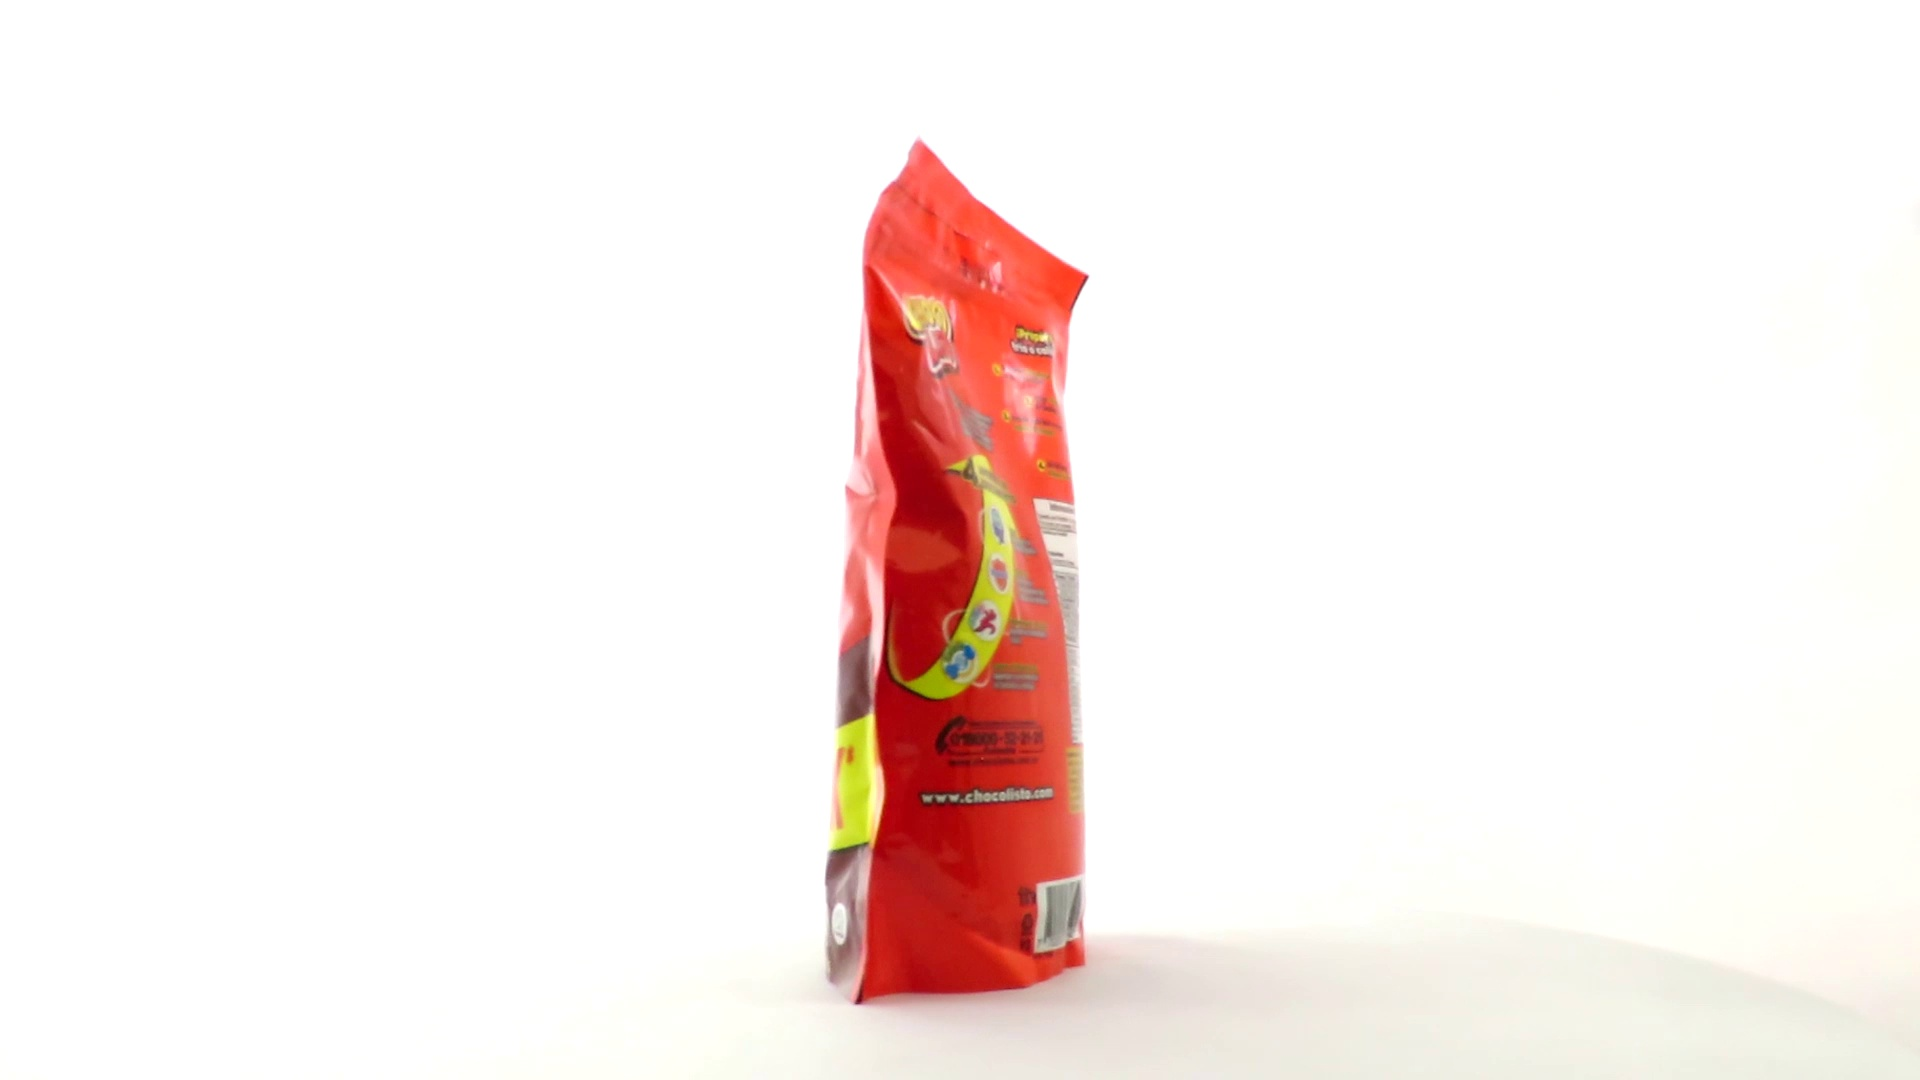COL0170103DYP36000: (820, 131, 1095, 1011)
